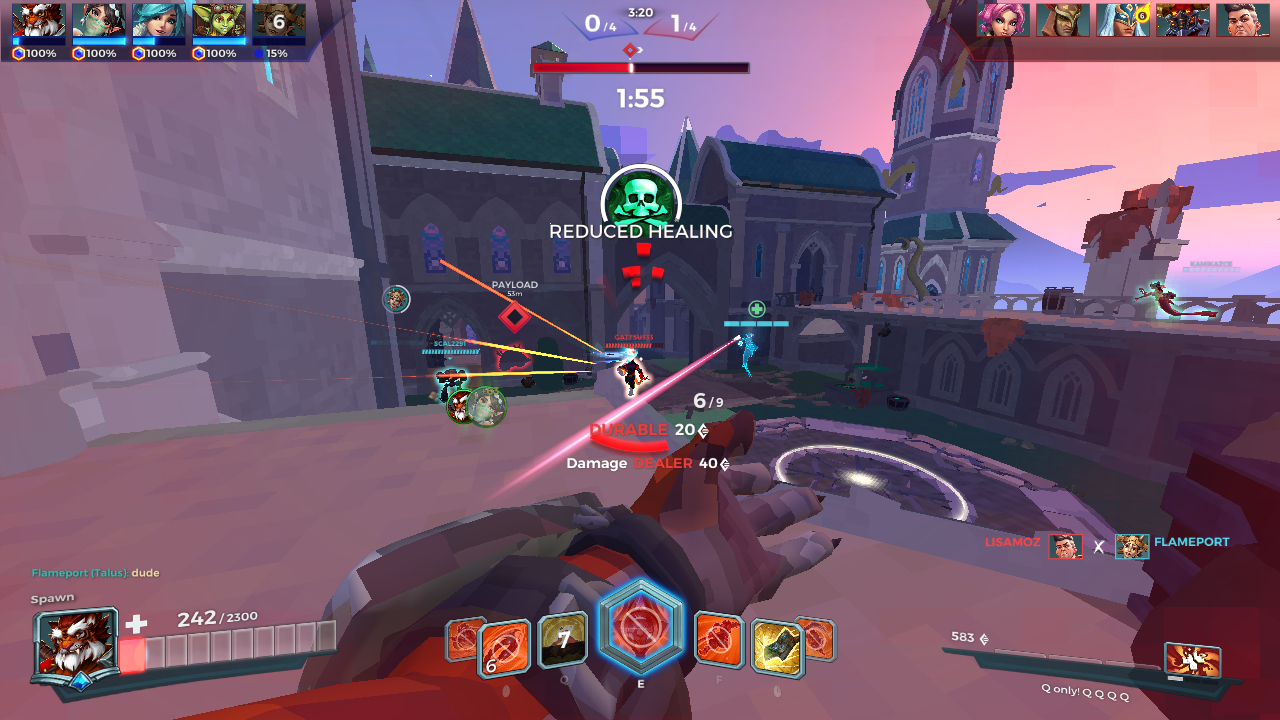model: (615, 354, 649, 404)
